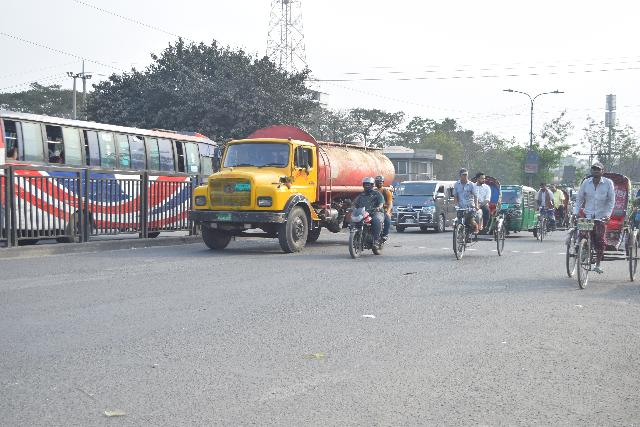motorcycle: (341, 171, 393, 264)
truck: (186, 124, 345, 261), (1, 106, 223, 174)
van: (389, 174, 459, 243)
